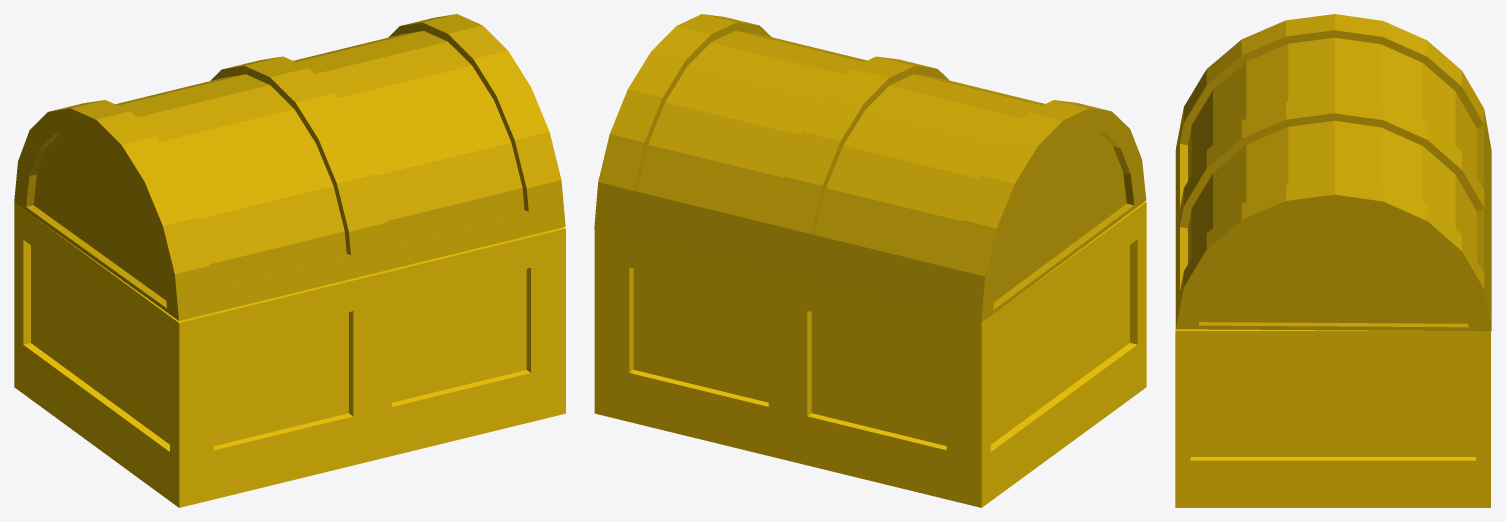
File: chest 2.fbx
3 views of the same model, side by side, from view 1: azimuth 30°, elevation 25°; view 2: azimuth 150°, elevation 25°; view 3: azimuth 270°, elevation 25° (orthographic). The views are drawn at different scales.
Parts seen in each view (by area): view 1: lid, base; view 2: lid, base; view 3: lid, base.
Boxes of the visible parts, <box> form: lid: <box>14,14,565,320</box>; base: <box>14,202,565,507</box>; lid: <box>594,14,1146,323</box>; base: <box>594,201,1146,507</box>; lid: <box>1176,14,1491,331</box>; base: <box>1175,150,1490,507</box>.
Bounding box in the file's own units: 1.71 × 1.39 × 1.27.
